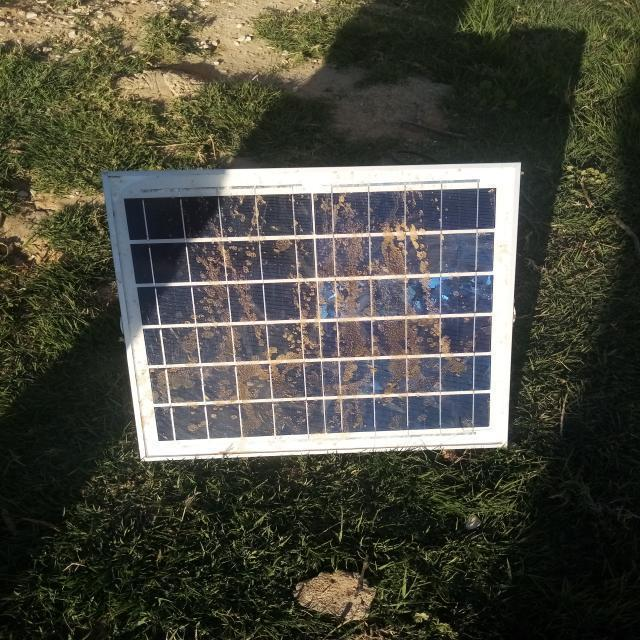Anomaly Solar Panel: (108, 182, 518, 456)
Surface Contaminant: (146, 188, 486, 439)
